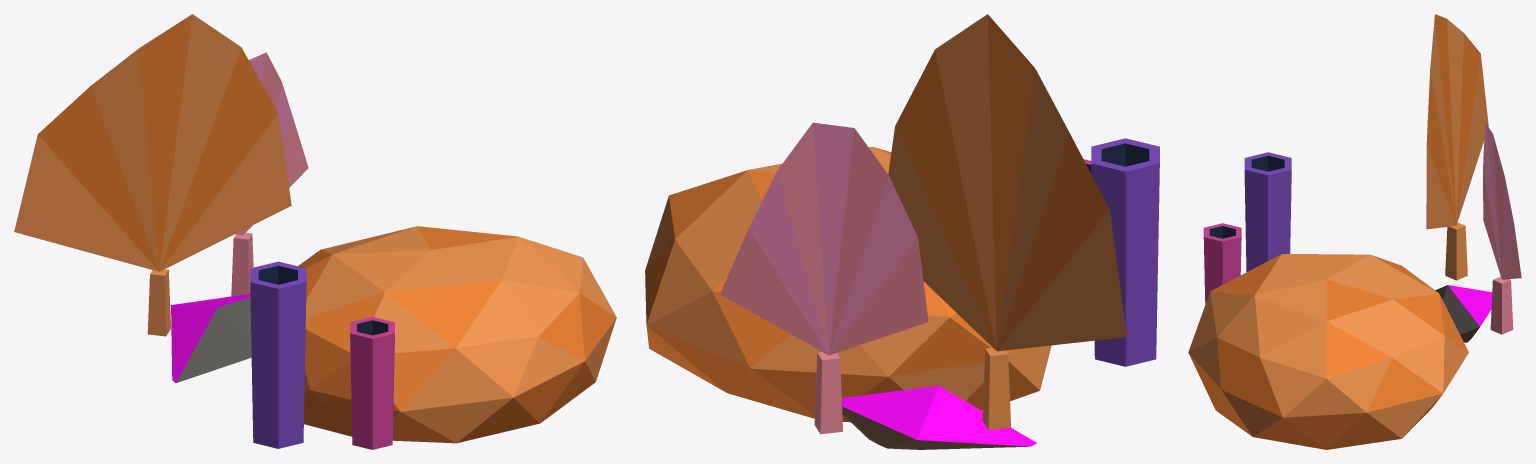
File: coral_b.glb
3 views of the same model, side by side, from view 1: azimuth 30°, elevation 25°; view 2: azimuth 150°, elevation 25°; view 3: azimuth 270°, elevation 25° (orthographic). The views are drawn at different scales.
Parts seen in each view (by area): view 1: coral_b__mesh; view 2: coral_b__mesh; view 3: coral_b__mesh.
Boxes of the visible parts, x1=… form: coral_b__mesh: x1=14, y1=14, x2=616, y2=449; coral_b__mesh: x1=645, y1=14, x2=1159, y2=449; coral_b__mesh: x1=1188, y1=14, x2=1521, y2=449.
Size of the model in its own units: 1.43 by 1.05 by 1.03.
1 material, 1 textured.
